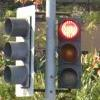traffic lights: (56, 16, 83, 91)
